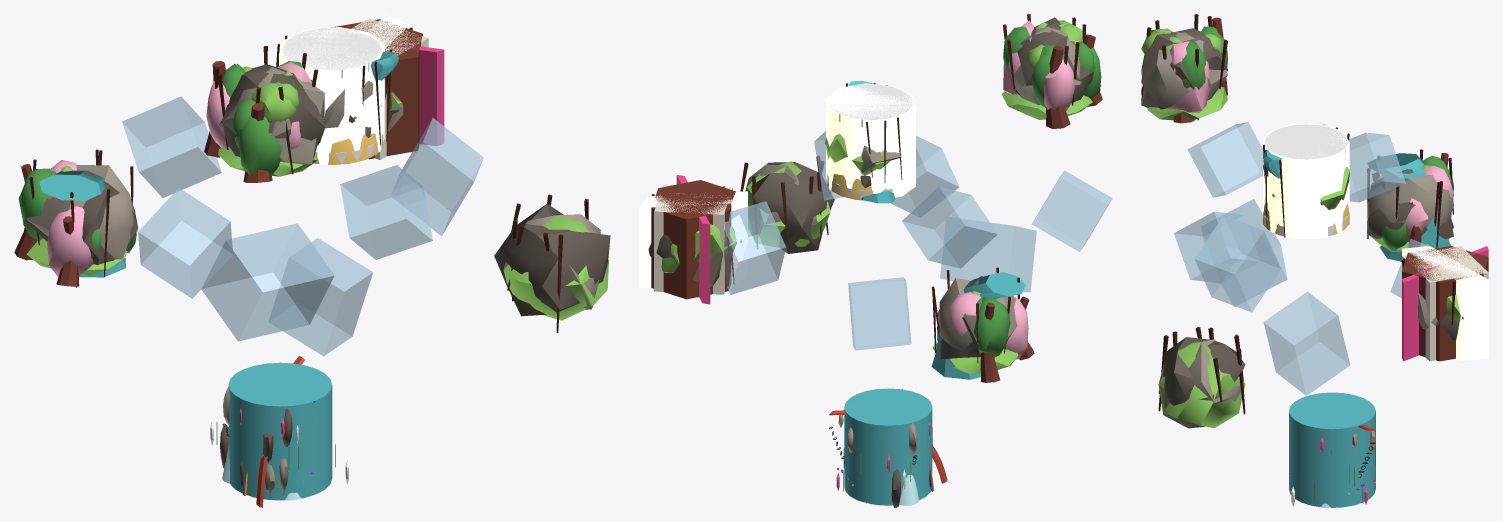
The model's file is ile-archipel-v4.glb.
3 renders of one model, left to right at view 1: azimuth 30°, elevation 25°; view 2: azimuth 150°, elevation 25°; view 3: azimuth 270°, elevation 25°, orthographic. The views are drawn at different scales.
Visible parts, largest first — view 1: archipel_decor, archipel_ilot1, archipel_ilot3, archipel_bloc6, archipel_ilot0, archipel_ilot4, archipel_bloc3, archipel_ilot2, archipel_bloc1, archipel_bloc4, archipel_bloc5, archipel_bloc0; view 2: archipel_ilot2, archipel_ilot0, archipel_decor, archipel_ilot1, archipel_ilot3, archipel_ilot4, archipel_bloc6, archipel_bloc5, archipel_bloc2, archipel_bloc3, archipel_bloc1, archipel_bloc4 (+1 smaller); view 3: archipel_ilot2, archipel_ilot0, archipel_decor, archipel_ilot1, archipel_ilot3, archipel_ilot4, archipel_bloc3, archipel_bloc0, archipel_bloc4, archipel_bloc1, archipel_bloc6, archipel_bloc5.
Part boxes in pixels (x1,y1,x2,y2): archipel_decor: (210,356,348,507); archipel_ilot1: (14,149,138,287); archipel_ilot3: (204,46,325,182); archipel_bloc6: (201,223,334,341); archipel_ilot0: (276,27,398,164); archipel_ilot4: (494,194,610,333); archipel_bloc3: (269,238,373,356); archipel_ilot2: (331,14,444,164); archipel_bloc1: (138,188,233,298); archipel_bloc4: (340,165,432,259); archipel_bloc5: (122,96,221,197); archipel_bloc0: (391,118,483,236); archipel_ilot2: (639,175,747,304); archipel_ilot0: (825,80,915,203); archipel_decor: (829,388,947,507); archipel_ilot1: (931,267,1034,382); archipel_ilot3: (1002,14,1102,128); archipel_ilot4: (740,156,834,253); archipel_bloc6: (940,217,1036,292); archipel_bloc5: (902,186,997,268); archipel_bloc2: (724,201,786,294); archipel_bloc3: (848,277,911,350); archipel_bloc1: (1031,170,1112,251); archipel_bloc4: (890,135,959,217); archipel_ilot2: (1402,246,1488,361); archipel_ilot0: (1263,123,1349,238); archipel_decor: (1289,392,1375,507); archipel_ilot1: (1367,149,1453,261); archipel_ilot3: (1141,14,1227,123); archipel_ilot4: (1158,327,1245,428); archipel_bloc3: (1263,291,1350,395); archipel_bloc0: (1194,215,1280,312); archipel_bloc4: (1174,211,1259,282); archipel_bloc1: (1187,122,1262,197); archipel_bloc6: (1201,199,1287,306); archipel_bloc5: (1349,132,1405,202).
Size of the model in its own units: 9.86 by 10.6 by 8.
